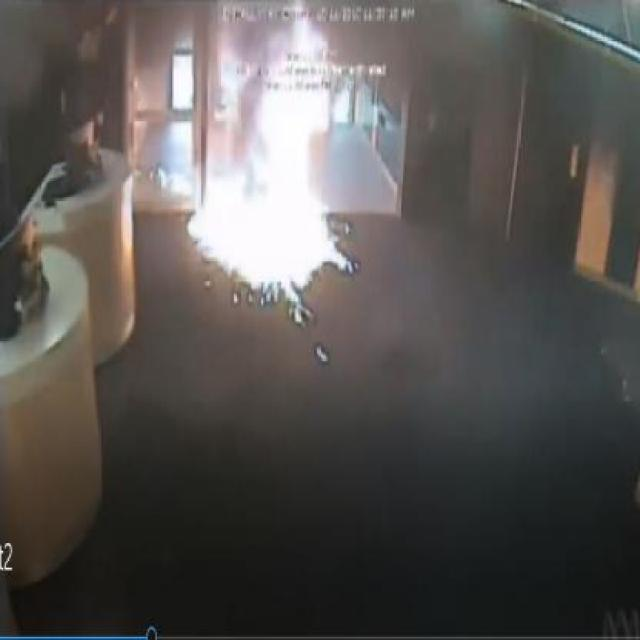Fire: (182, 66, 354, 298), (286, 288, 312, 328)
